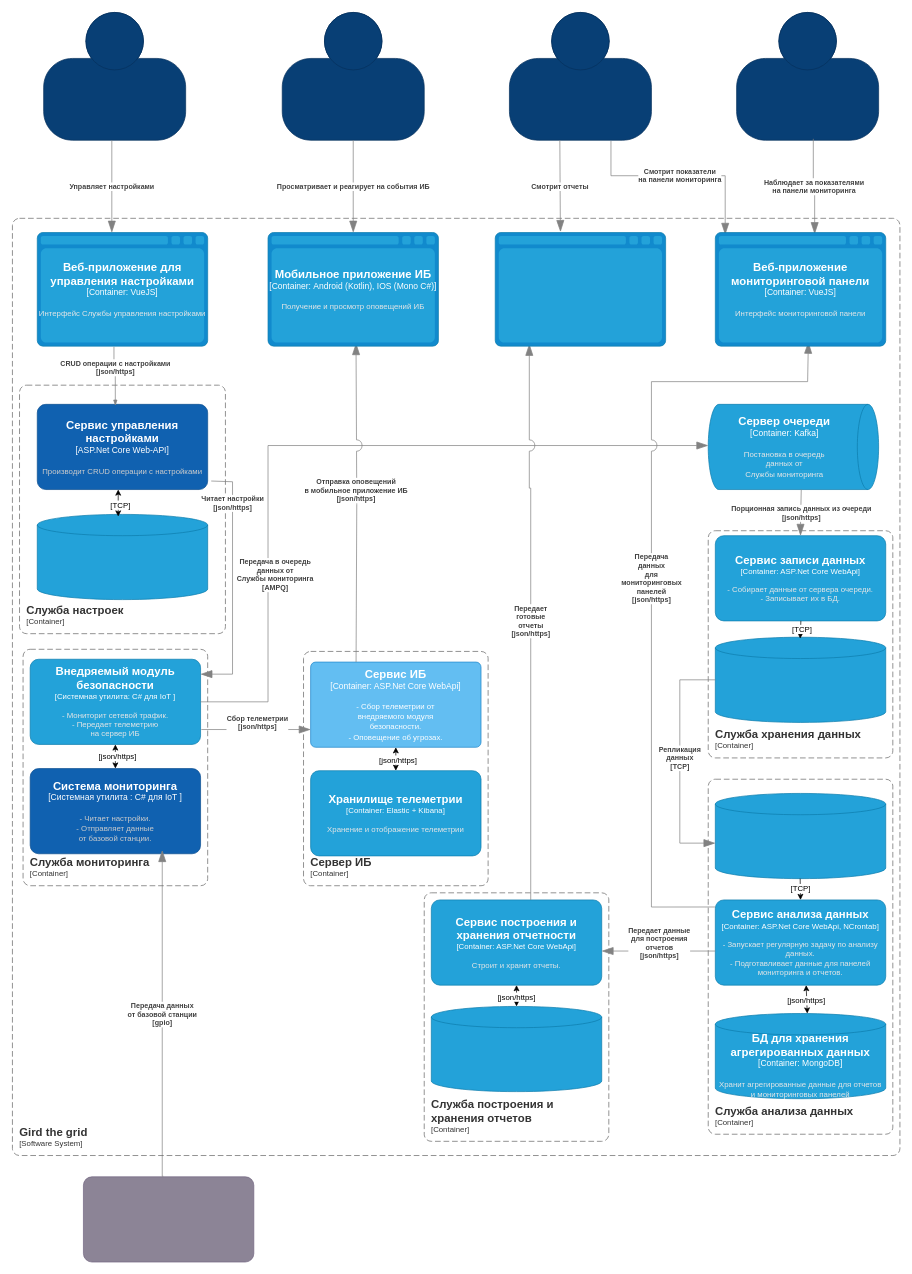
This 912x1274 diagram has some shape labels left out. Here are the shapes that lost their labels. From the top down, the centre of each, then its label:
At (x=114, y=76): "Cистемный администратор [Person] Вносит настройки.".
At (x=353, y=76): "Инженер ИБ [Person] Реагирует на предупреждения об угрозах.".
At (x=580, y=76): "Маркетолог [Person] Просматривает отчеты. Доступ к панелям мониторинга".
At (x=807, y=76): "Дежурный инженер [Person] Следит за показателями через панели мониторинга.".
At (x=580, y=289): "Веб-приложение для просмотра отчетов [Container: VueJS] Просмотр отчетов".
At (x=122, y=557): "БД для хранения настроек [Container: PostgreSql] Хранит настройки".
At (x=800, y=679): "БД только для записи [Container: PostgreSQL] Хранит данные от служб мониторинга".
At (x=800, y=836): "БД только для чтения [Container: PostgreSQL] Хранит данные от служб мониторинга".
At (x=516, y=1049): "Файловое хранилище отчетов [Container: AWS S3] Хранит отчеты".
At (x=168, y=1219): "Базовая станция LoRaWan [Внешнее устройство] Собирает данные от IoT счетчиков.".
